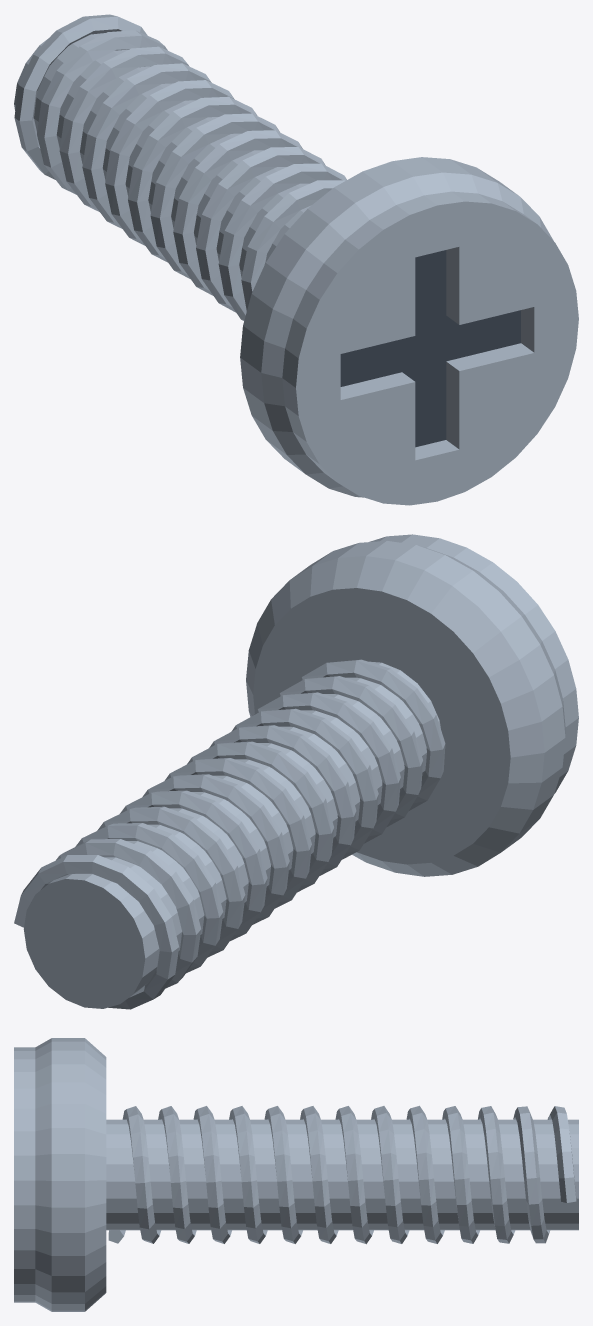
File: mounting_screw.obj
3 renders of one model, top to bottom at view 1: azimuth 30°, elevation 25°; view 2: azimuth 150°, elevation 25°; view 3: azimuth 270°, elevation 25°, orthographic. The views are drawn at different scales.
Parts seen in each view (by area): view 1: mounting_screw; view 2: mounting_screw; view 3: mounting_screw.
Boxes of the visible parts, x1=… form: mounting_screw: x1=14, y1=14, x2=578, y2=505; mounting_screw: x1=14, y1=534, x2=578, y2=1009; mounting_screw: x1=14, y1=1038, x2=578, y2=1311.
Size of the model in its own units: 0.9707 by 0.9707 by 2.
